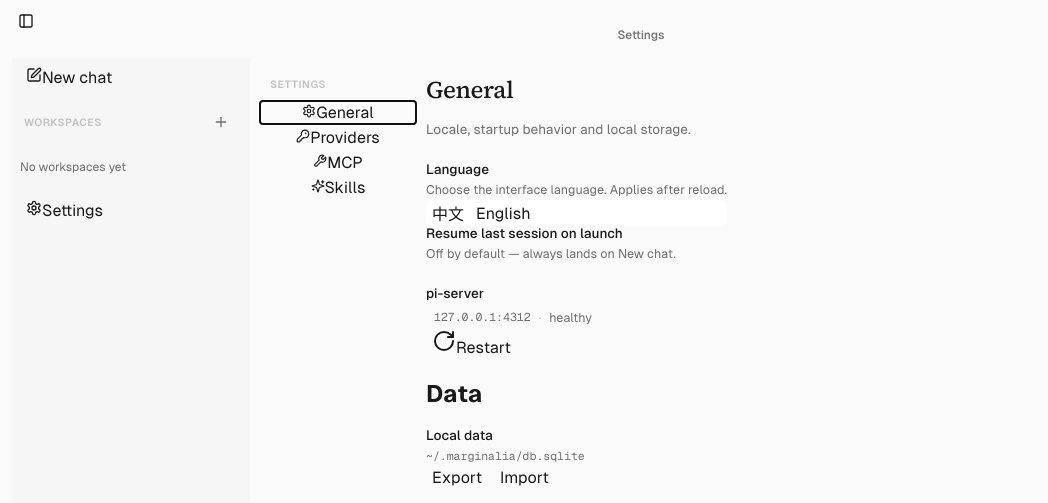
AppShell › reopens General from the normal Settings entry after an in-view tab change
Click the tab "Skills". click: click(338, 188)
box: [260,176,416,199]
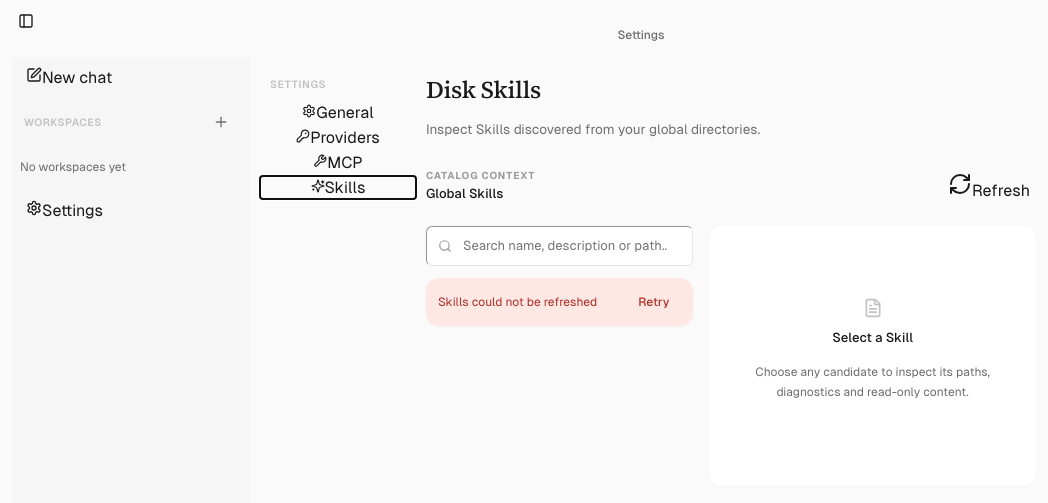
Result: the heading "Disk Skills" is shown at [426,73,541,106]
Click the button "Settings". click: click(64, 210)
box: [20,199,109,222]
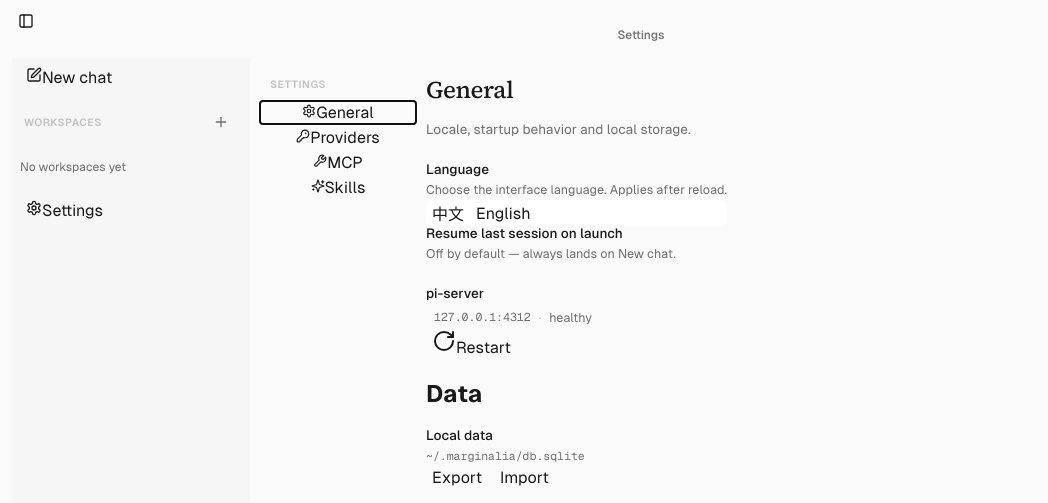
Result: the text "Locale, startup behavior and local storage." is shown at [426,122,727,138]
